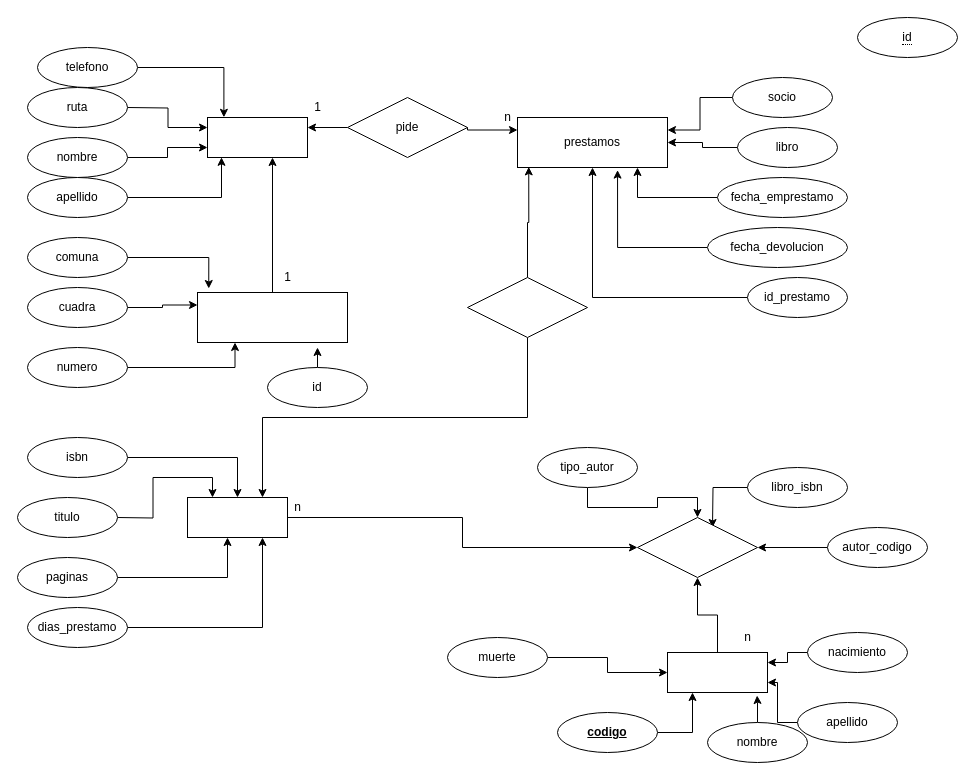
This 975x780 diagram has some shape labels left out. The centre of each missing label's shape, as x and y in pixels:
autores: point 717,672
direccion: point 272,317
incluir: point 527,307
libros: point 237,517
libros_autores: point 697,547
socios: point 257,137
